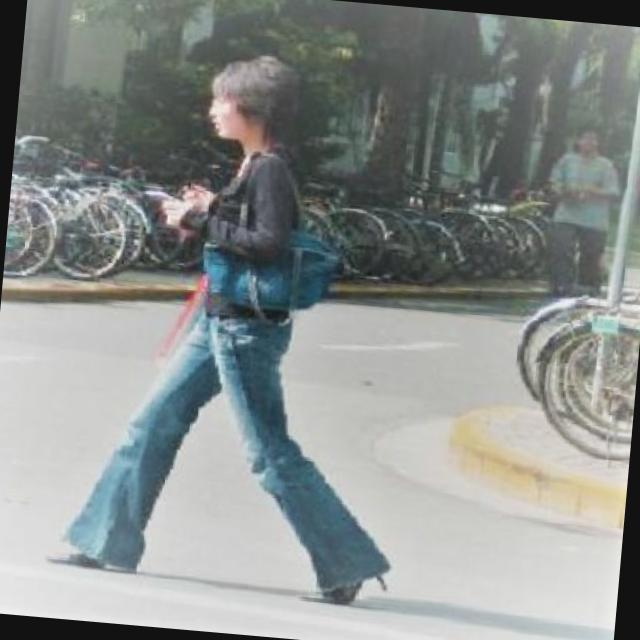Person: (41, 34, 430, 609), (536, 118, 626, 295)
